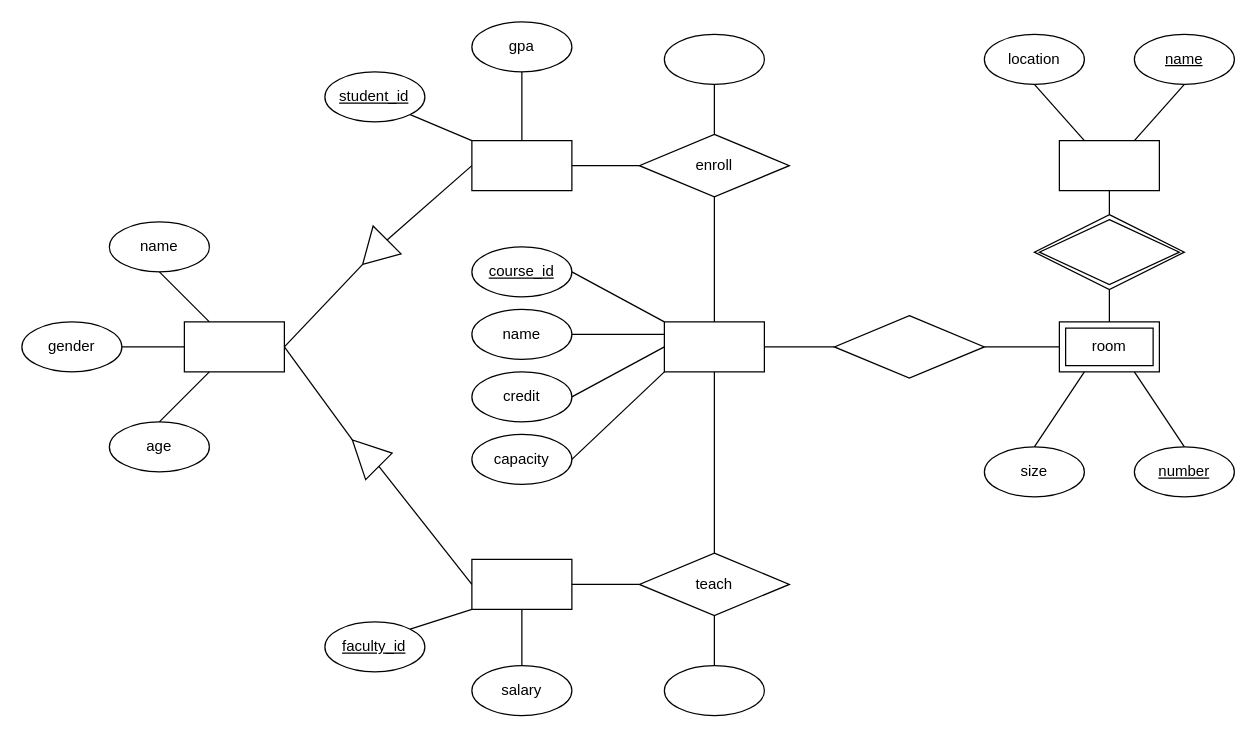
The diagram is 1256 pixels wide and 738 high, and some of its shapes have lost their labels. Each missing label, with the centre of its shape:
affiliation: [1108,251]
building: [1108,165]
course: [713,346]
grade: [713,58]
Instructor: [521,583]
located: [908,346]
Person: [233,346]
student: [521,165]
time: [713,690]
